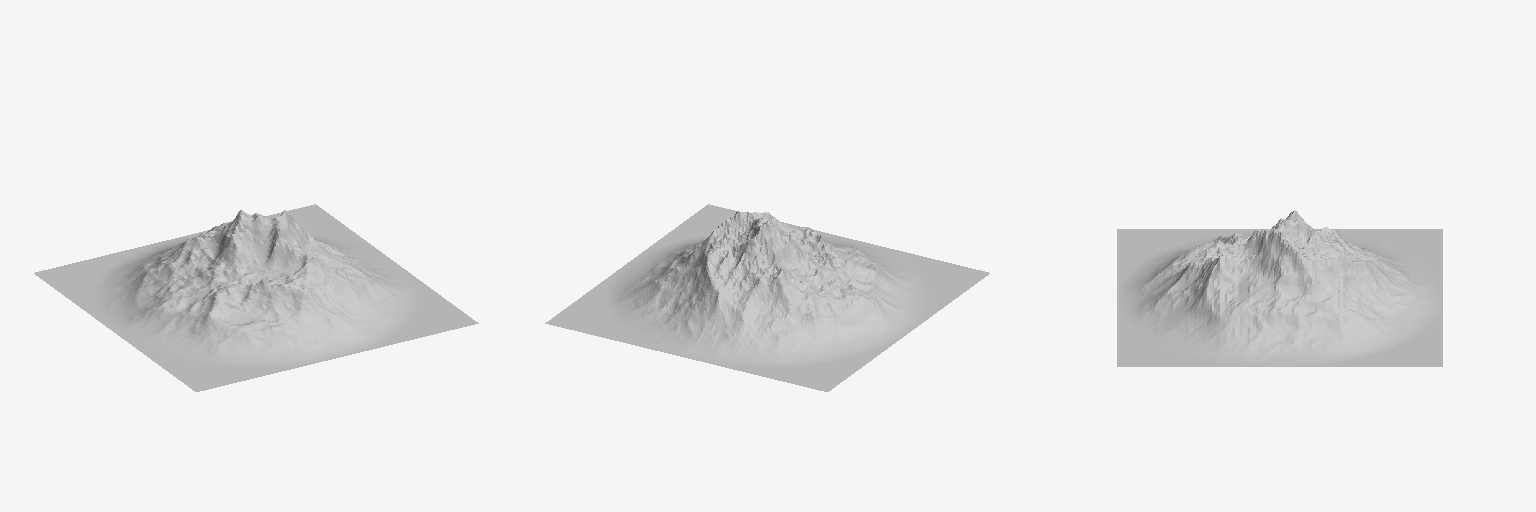
File: Mountain2.obj
3 renders of one model, left to right at view 1: azimuth 30°, elevation 25°; view 2: azimuth 150°, elevation 25°; view 3: azimuth 270°, elevation 25°, orthographic.
Parts seen in each view (by area): view 1: Mountain2_Landscape.003; view 2: Mountain2_Landscape.003; view 3: Mountain2_Landscape.003.
Boxes of the visible parts, <box> form: Mountain2_Landscape.003: <box>34,204,478,391</box>; Mountain2_Landscape.003: <box>545,204,989,391</box>; Mountain2_Landscape.003: <box>1117,210,1442,366</box>.
Size of the model in its own units: 10.95 by 3.13 by 10.95.